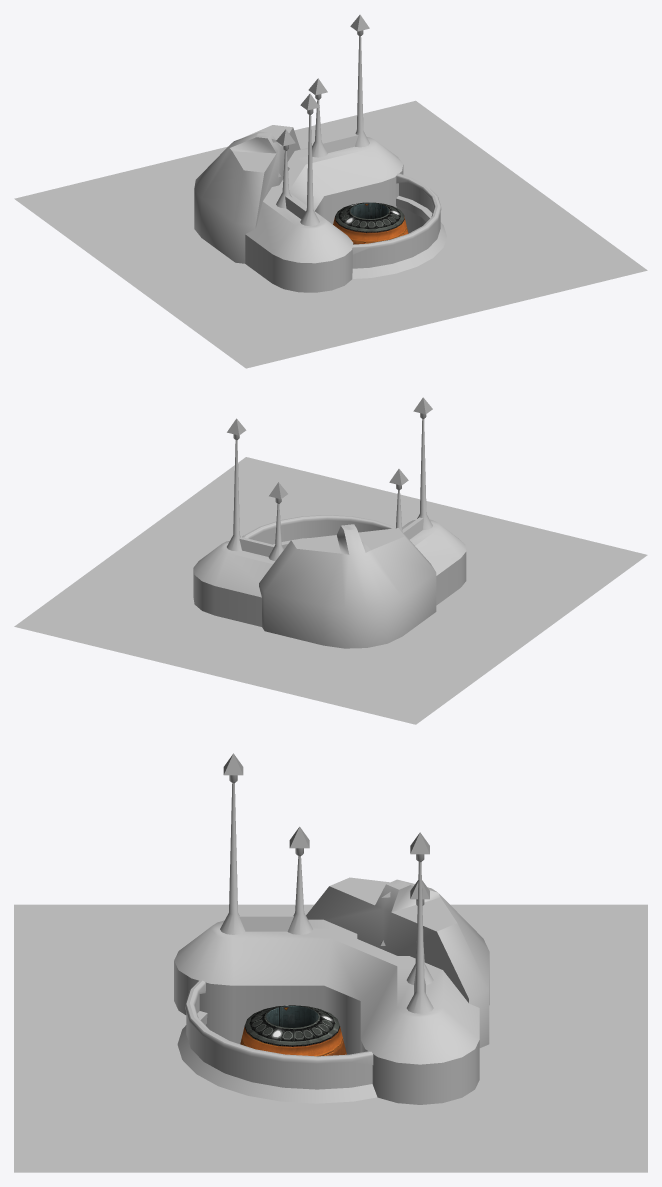
The model's file is ibarmo00.FBX.
3 renders of one model, top to bottom at view 1: azimuth 30°, elevation 25°; view 2: azimuth 150°, elevation 25°; view 3: azimuth 270°, elevation 25°, orthographic. The views are drawn at different scales.
Parts seen in each view (by area): view 1: terrain, armo, antenna, launch, fence__2, fence_rim; view 2: terrain, armo, antenna, fence__2, fence_rim; view 3: terrain, armo, fence__2, antenna, launch, fence_rim.
Part boxes in pixels (x1,y1,x2,y2): terrain: [14, 100, 647, 368]; armo: [194, 125, 446, 292]; antenna: [276, 30, 369, 226]; launch: [333, 202, 408, 244]; fence__2: [352, 182, 440, 268]; fence_rim: [352, 173, 441, 254]; terrain: [14, 457, 647, 724]; armo: [193, 519, 466, 648]; antenna: [227, 413, 432, 561]; fence__2: [250, 520, 384, 544]; fence_rim: [242, 515, 395, 538]; terrain: [14, 904, 647, 1172]; armo: [174, 877, 489, 1104]; fence__2: [186, 994, 372, 1089]; antenna: [220, 775, 433, 1013]; launch: [240, 1005, 346, 1056]; fence_rim: [185, 980, 373, 1064].
Size of the model in its own units: 32 by 16 by 32.
